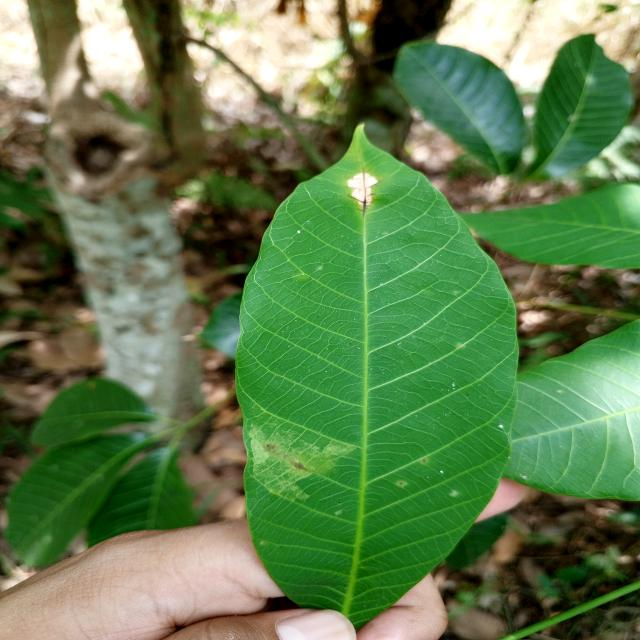Corynespora: (355, 198, 371, 216)
Leaf-Blight: (346, 171, 378, 205)
